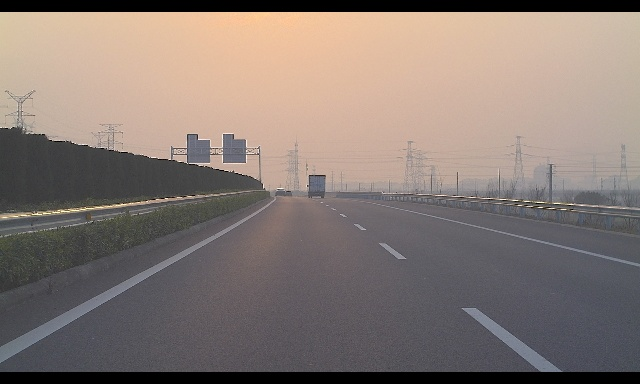car: (275, 188, 286, 196), (284, 191, 293, 196)
truck: (307, 175, 325, 198)
